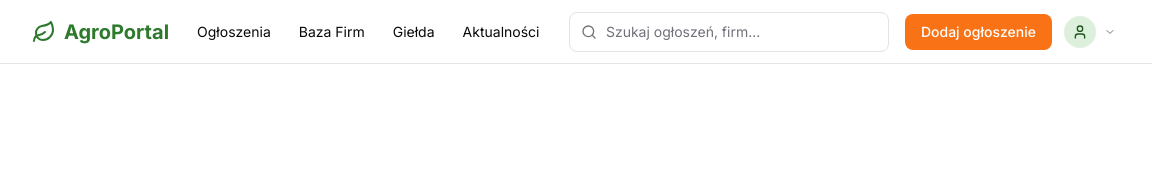
Test: Header — user menu (authenticated) › opens dropdown menu when avatar is clicked
The width and height of the screenshot is (1152, 172).
Click the button named "menu użytkownika". click: (1090, 32)
box: [1060, 12, 1120, 52]
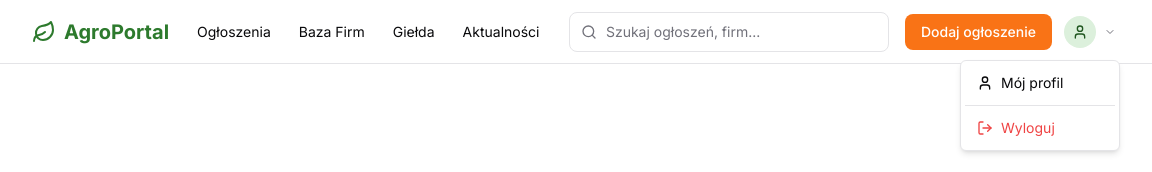
Expected: the menu item "Wyloguj" is shown, [977, 119, 1055, 136]
